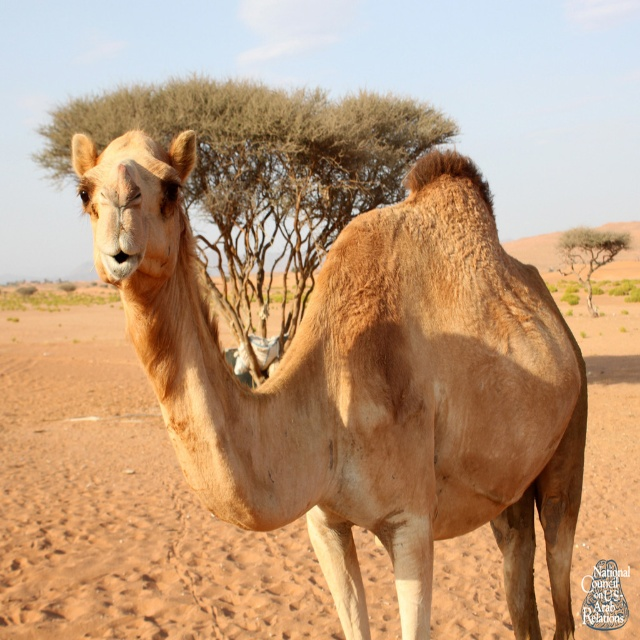Camel: (73, 124, 588, 639)
